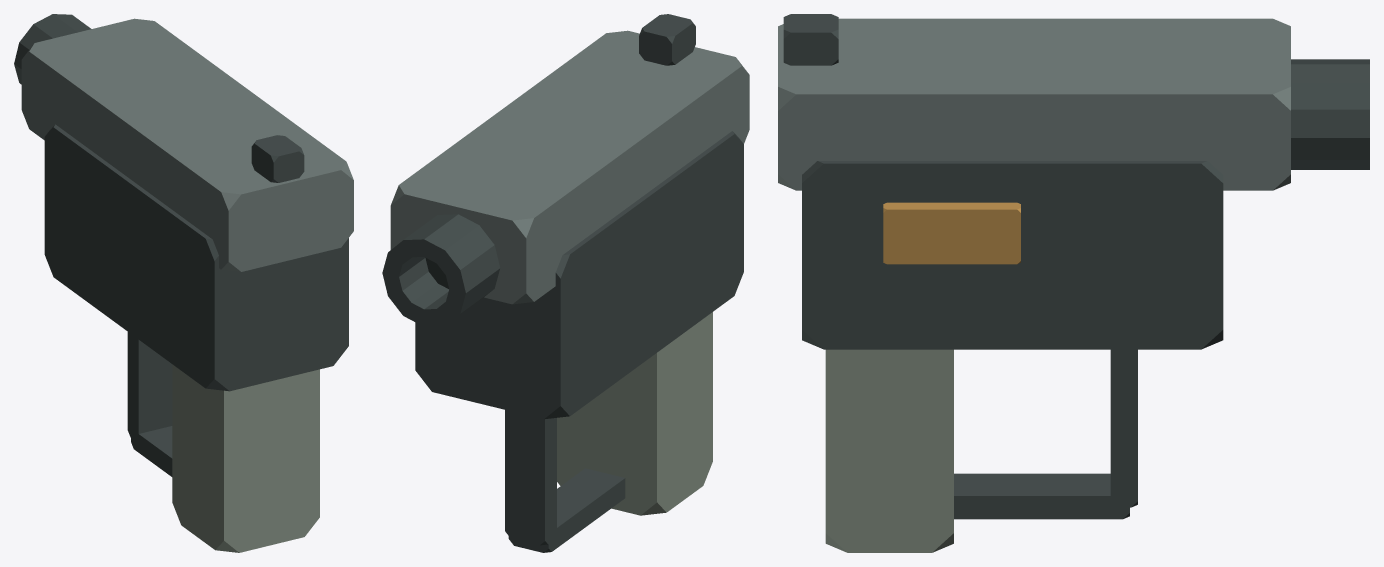
File: weapon_pistol.glb
The picture shows the model from 3 angles, left to right: view 1: azimuth 30°, elevation 25°; view 2: azimuth 150°, elevation 25°; view 3: azimuth 270°, elevation 25°; orthographic projection. The views are drawn at different scales.
Visible parts, largest first — view 1: weapon_pistol; view 2: weapon_pistol; view 3: weapon_pistol.
Boxes of the visible parts, x1,y1,x2,y2 form: weapon_pistol: [14, 14, 353, 552]; weapon_pistol: [382, 14, 749, 552]; weapon_pistol: [778, 14, 1369, 552].
Size of the model in its own units: 0.1139 by 0.3011 by 0.3226.
